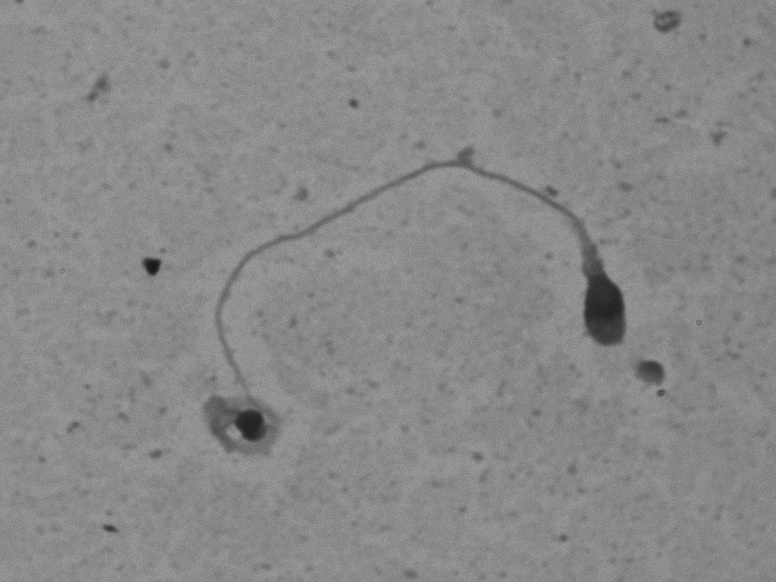Abnormal: (184, 131, 652, 458)
